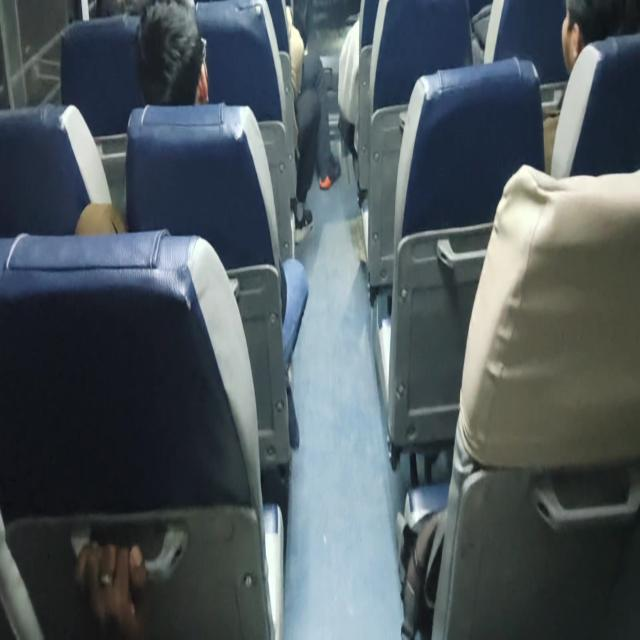person: (144, 4, 228, 97), (537, 0, 640, 59)
